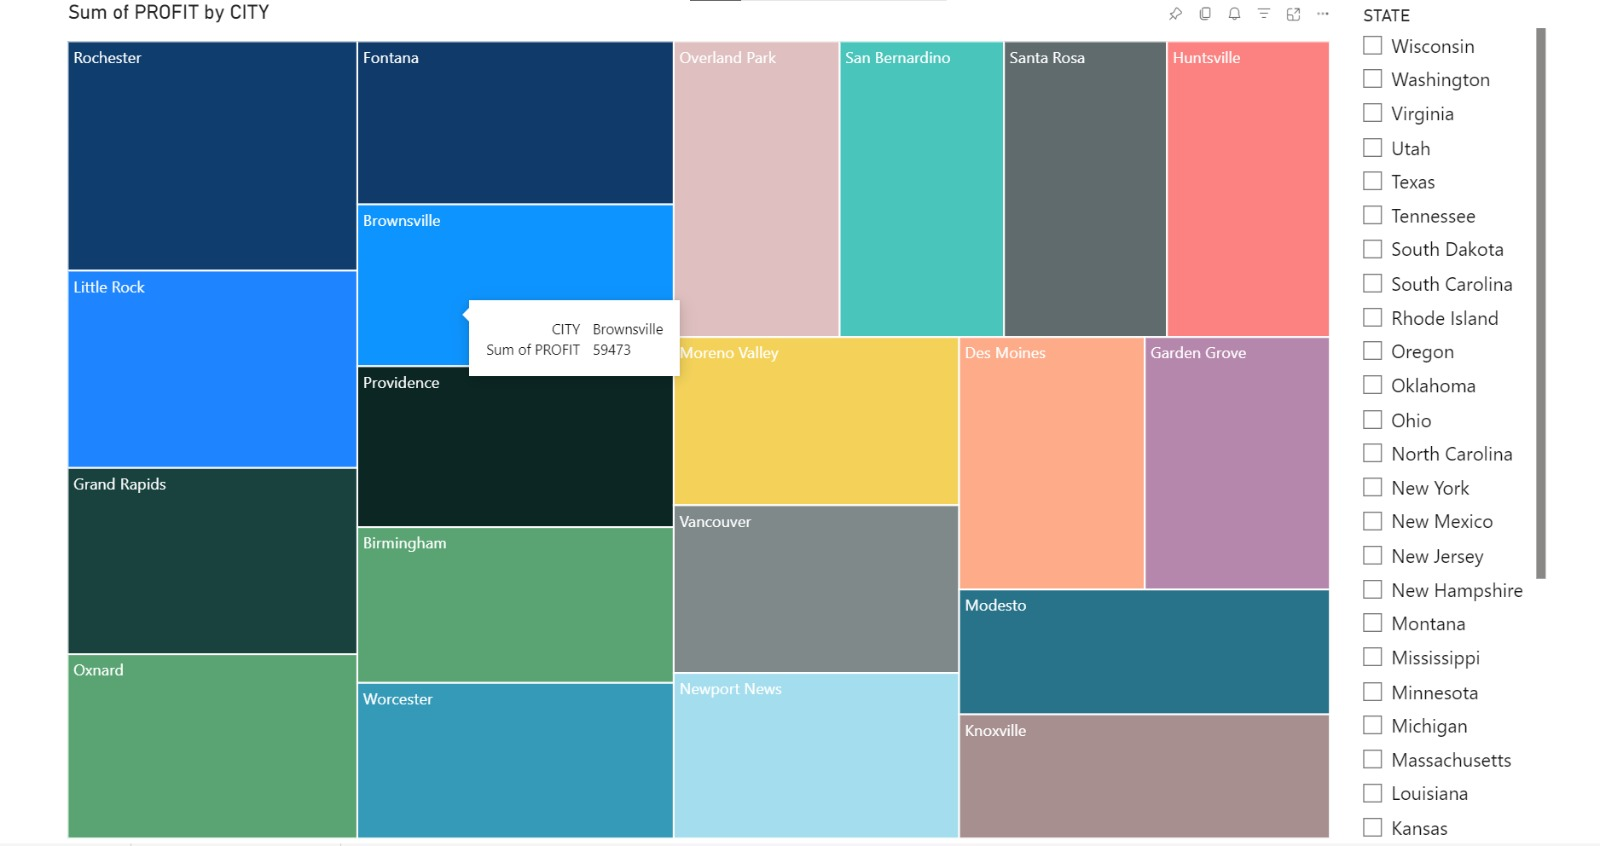

The page's visual inventory and layout, read from the dashboard file:
{"tool":"powerbi","page":{"name":"CITIES","canvas":[1280,720],"ordinal":2},"visuals":[{"type":"treemap","fields":{"Group":["startups-expansions-modifiedx.CITY"],"Values":["Sum(startups-expansions-modifiedx.PROFIT)"]},"box":[10,0,1086.2,720],"z":0},{"type":"slicer","fields":{"Values":["startups-expansions-modifiedx.STATE"]},"box":[1106,0,174,720],"z":1}]}

Visuals, with their boxes on the page's 1280x720 design canvas (x1, y1, x2, y2). These are canvas units, not pixel positions in the 1600x846 screenshot, which may show the page scaled, cropped or inside an application window:
treemap - startups-expansions-modifiedx.CITY x Sum(startups-expansions-modifiedx.PROFIT): pyautogui.locateOnScreen(10, 0, 1096, 720)
slicer - startups-expansions-modifiedx.STATE: pyautogui.locateOnScreen(1106, 0, 1280, 720)
